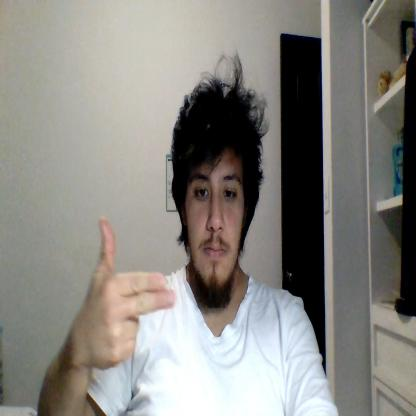H: (82, 218, 174, 370)
